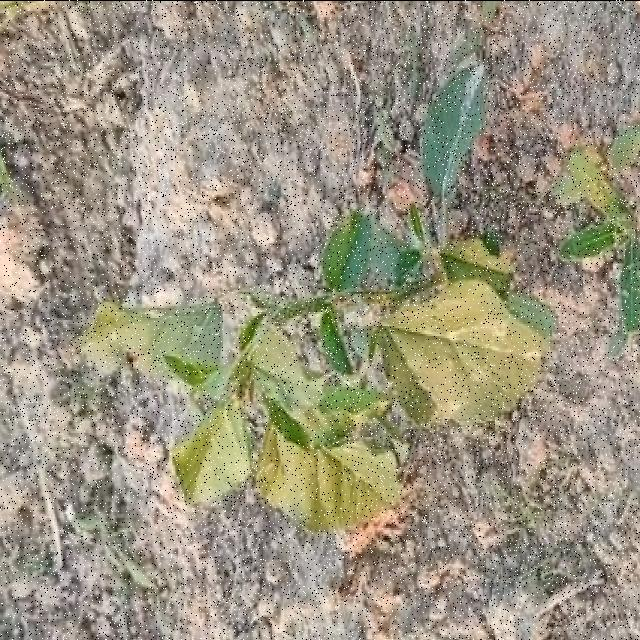weed: (79, 206, 554, 531), (556, 123, 640, 335), (425, 63, 488, 208)
